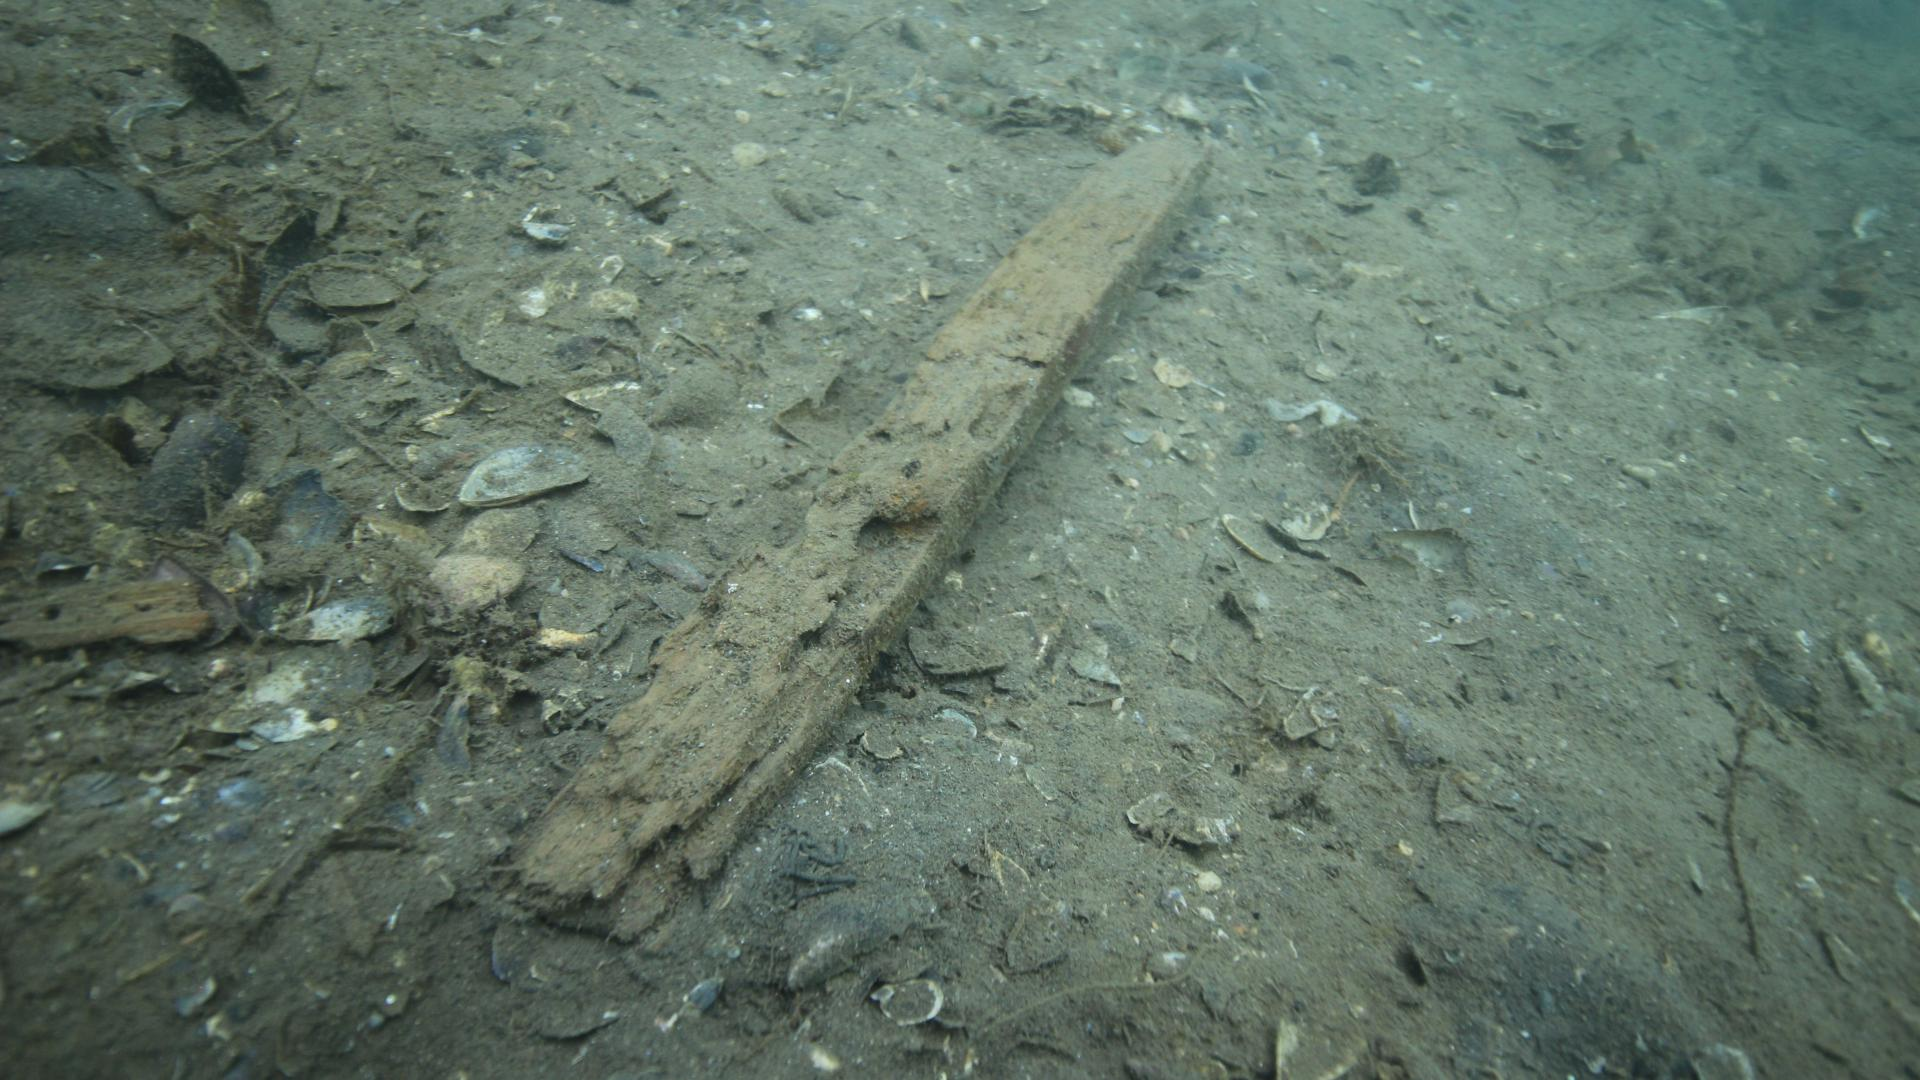wood: (512, 135, 1211, 942)
